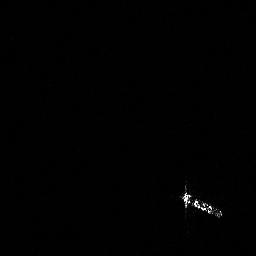ship: (180, 183, 224, 220)
